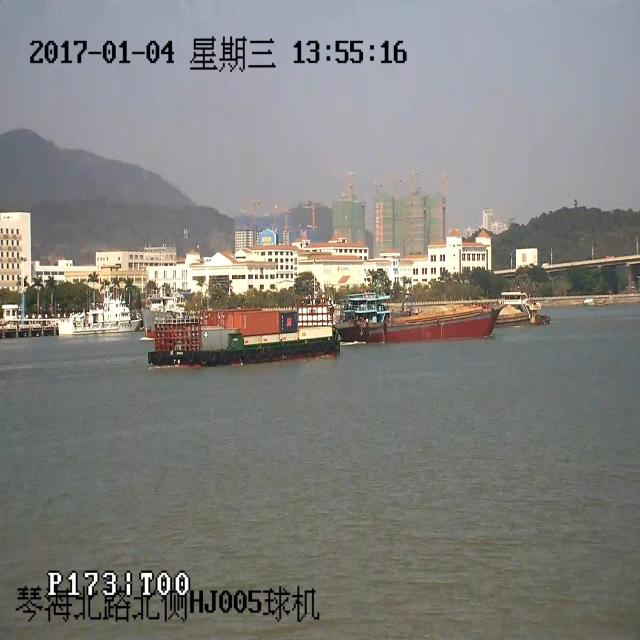cargoship: (154, 295, 338, 359), (339, 282, 507, 341)
passenger ship: (64, 298, 137, 333)
